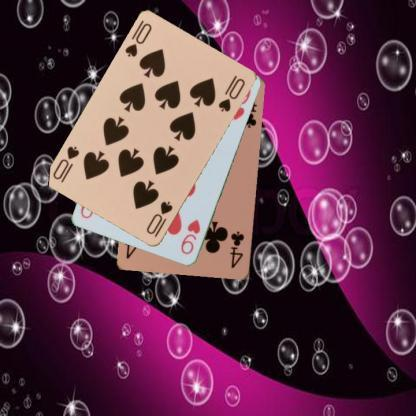10s: (144, 198, 174, 240), (122, 21, 154, 59)
4c: (228, 229, 246, 270)
9h: (178, 216, 202, 257)
